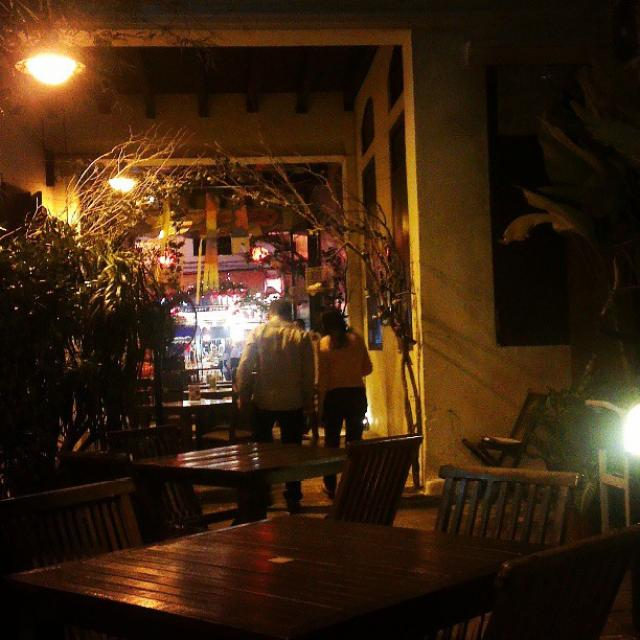People: (229, 279, 317, 437), (309, 282, 389, 453)
Table: (23, 490, 540, 640), (134, 424, 349, 508), (161, 372, 246, 430)
chair: (492, 504, 640, 640), (430, 440, 587, 565), (0, 466, 148, 594), (321, 395, 422, 518)
